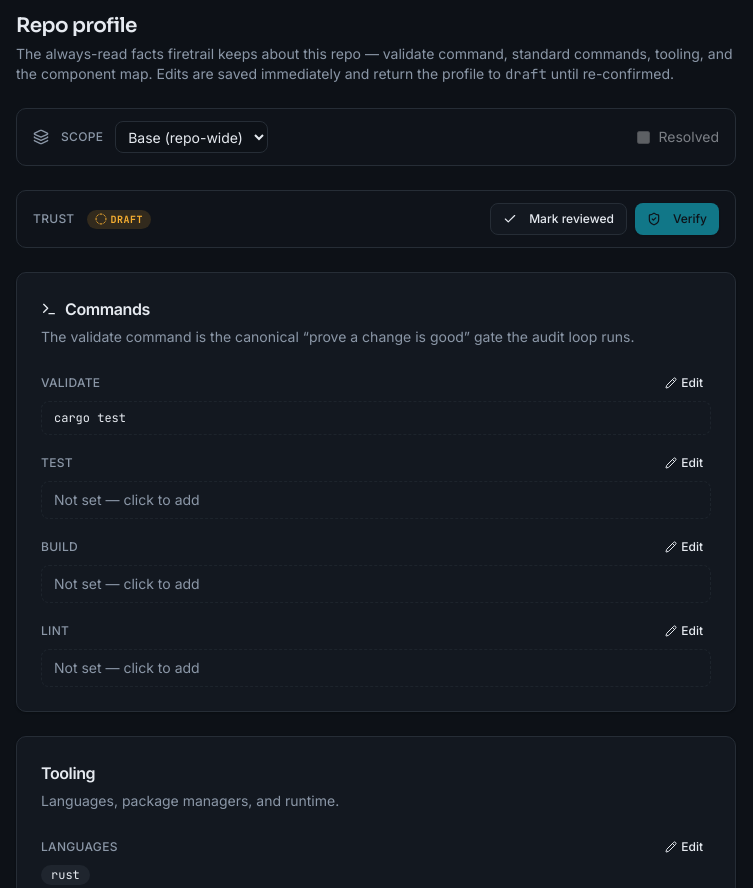
Test case: <ProfilePanel /> › badges: resolved scope shows overridden vs inherited per field
Expected: the button with test id "profile-value-validateCommand" is shown, top-left (41, 401), bottom-right (711, 435)
Select "apps/checkout" in the dropdown with test id "profile-scope-switcher" at (192, 137), box top-left (115, 121), bottom-right (268, 153)
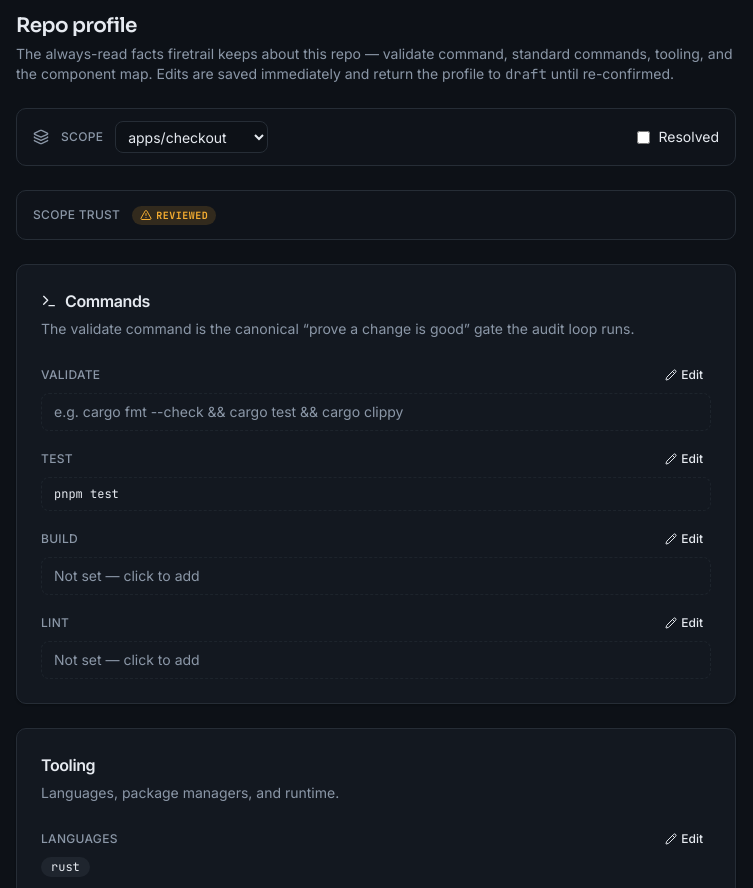
Expected: the button with test id "profile-value-testCommand" reads "pnpm test", top-left (41, 477), bottom-right (711, 511)
Click the checkbox with test id "profile-resolved-toggle".
click(644, 137)  # box top-left (638, 130), bottom-right (650, 144)
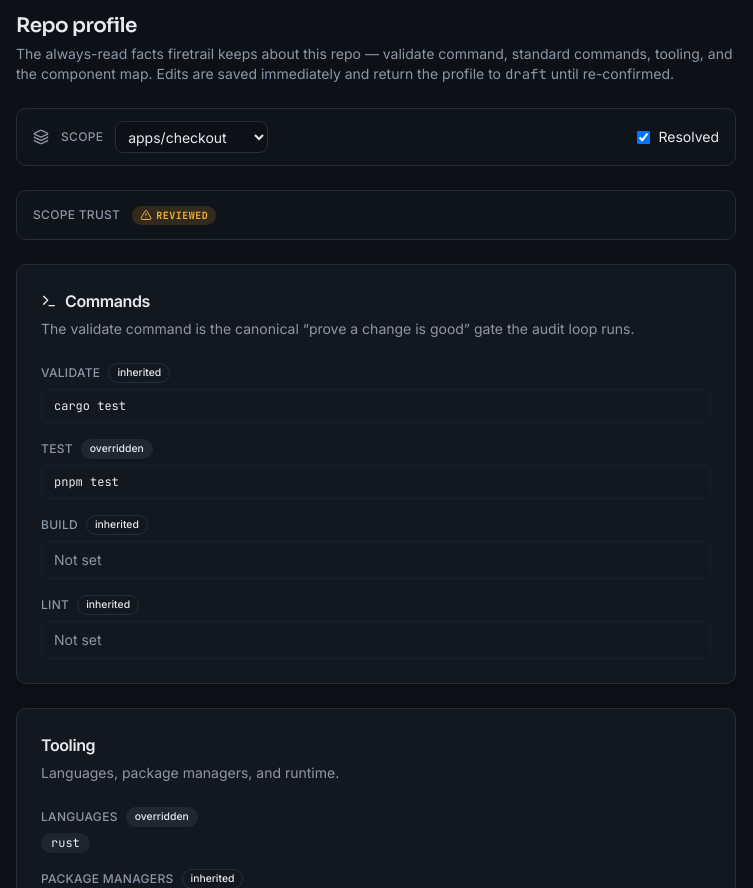
Expected: the text with test id "profile-field-origin-testCommand" reads "overridden", top-left (90, 442), bottom-right (144, 455)
Expected: the text with test id "profile-field-origin-validateCommand" reads "inherited", top-left (117, 366), bottom-right (161, 379)
